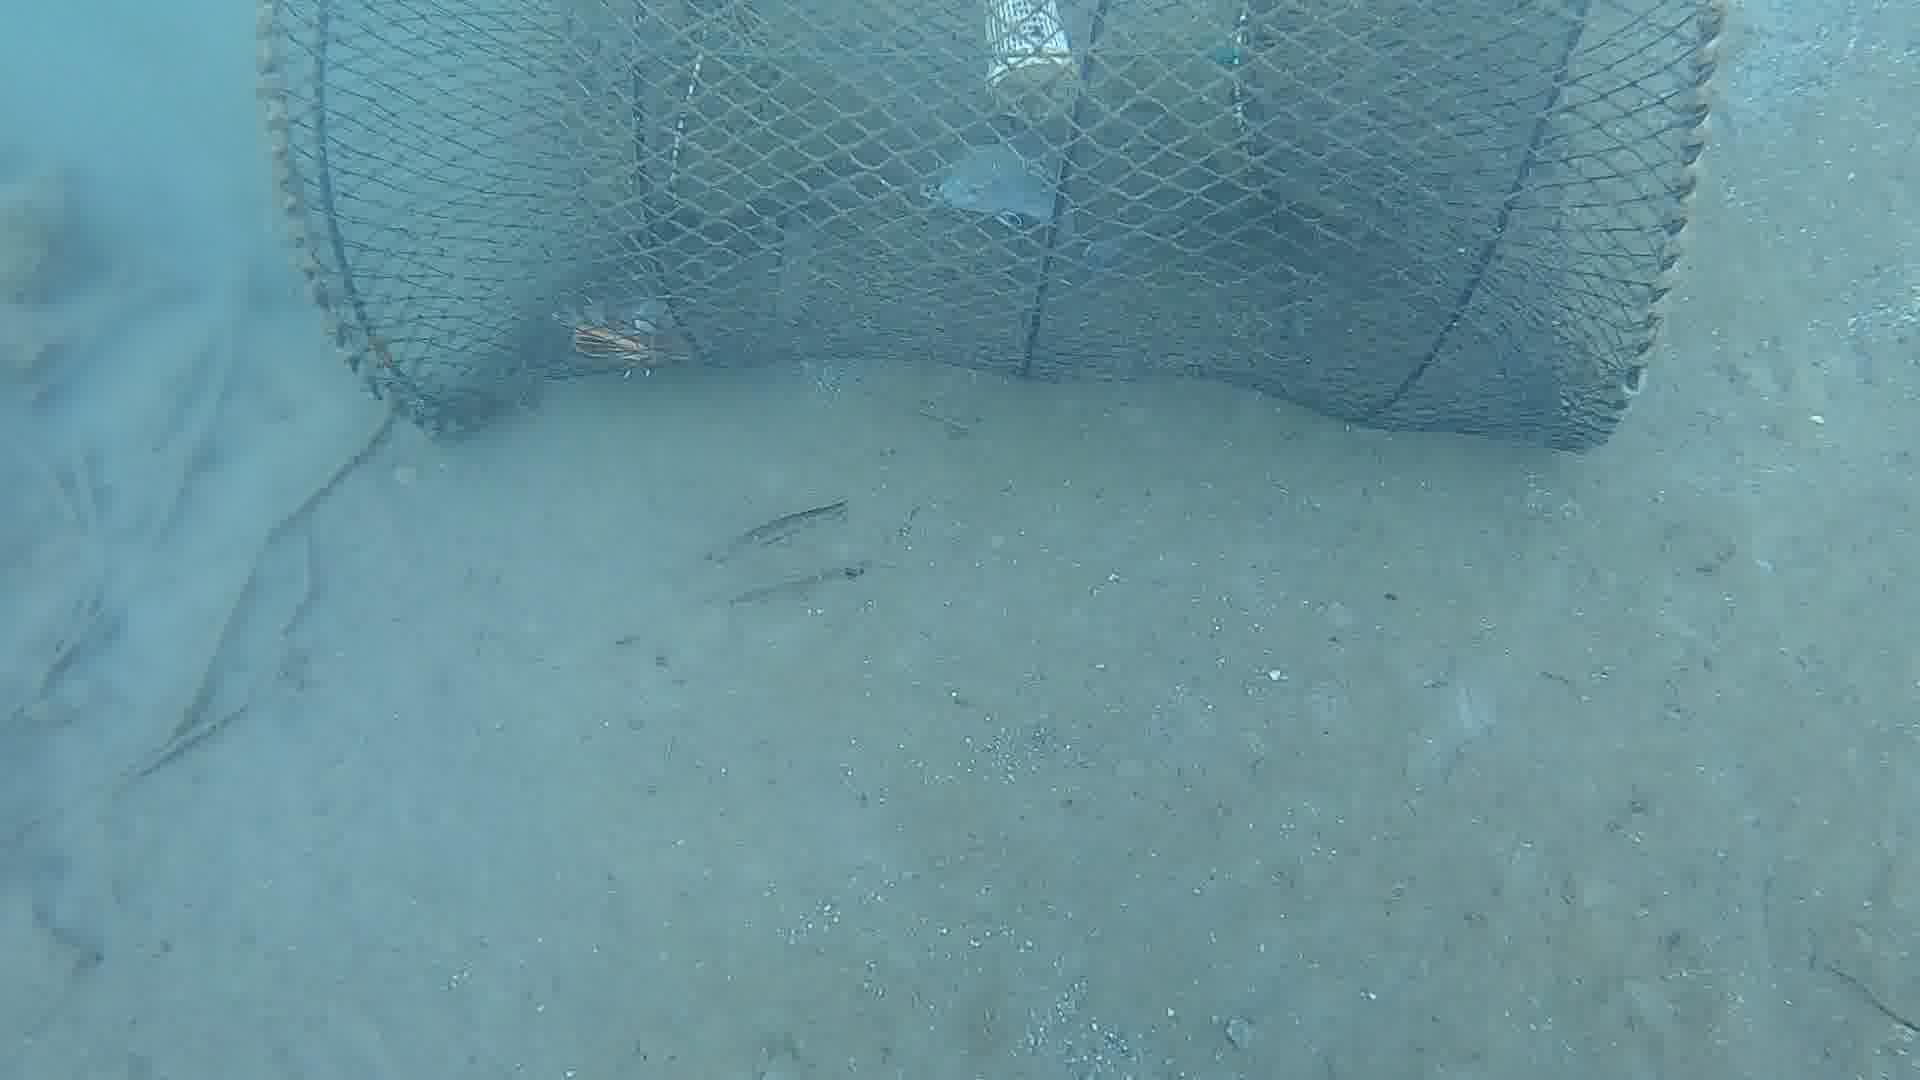spring fish trap: (256, 0, 1720, 454)
